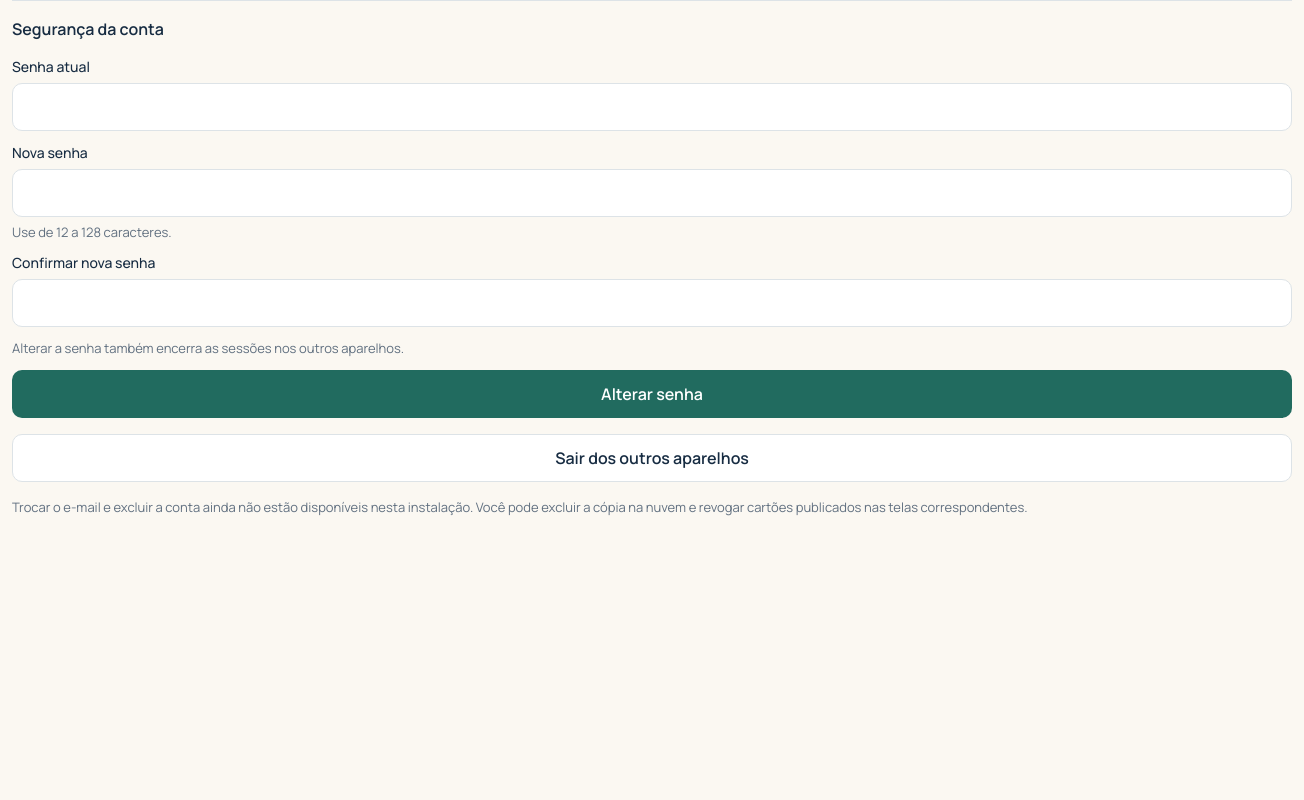
Test case: account security › clears password fields and reports provider failure without claiming success
Type "current-password" into the password field labelled "Senha atual" at (652, 107), box [12,83,1292,131]
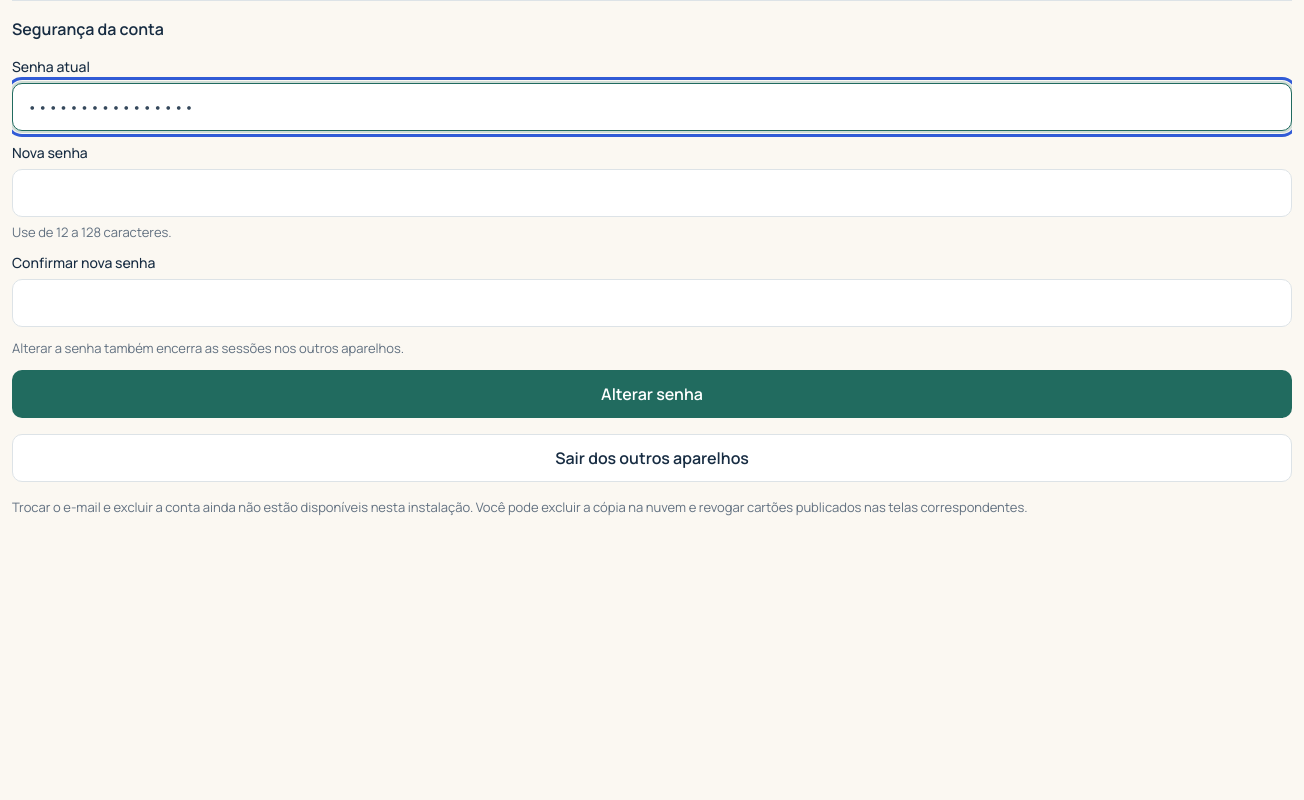
Type "new-password-secure" into the password field labelled "Nova senha" at (652, 193), box [12,169,1292,217]
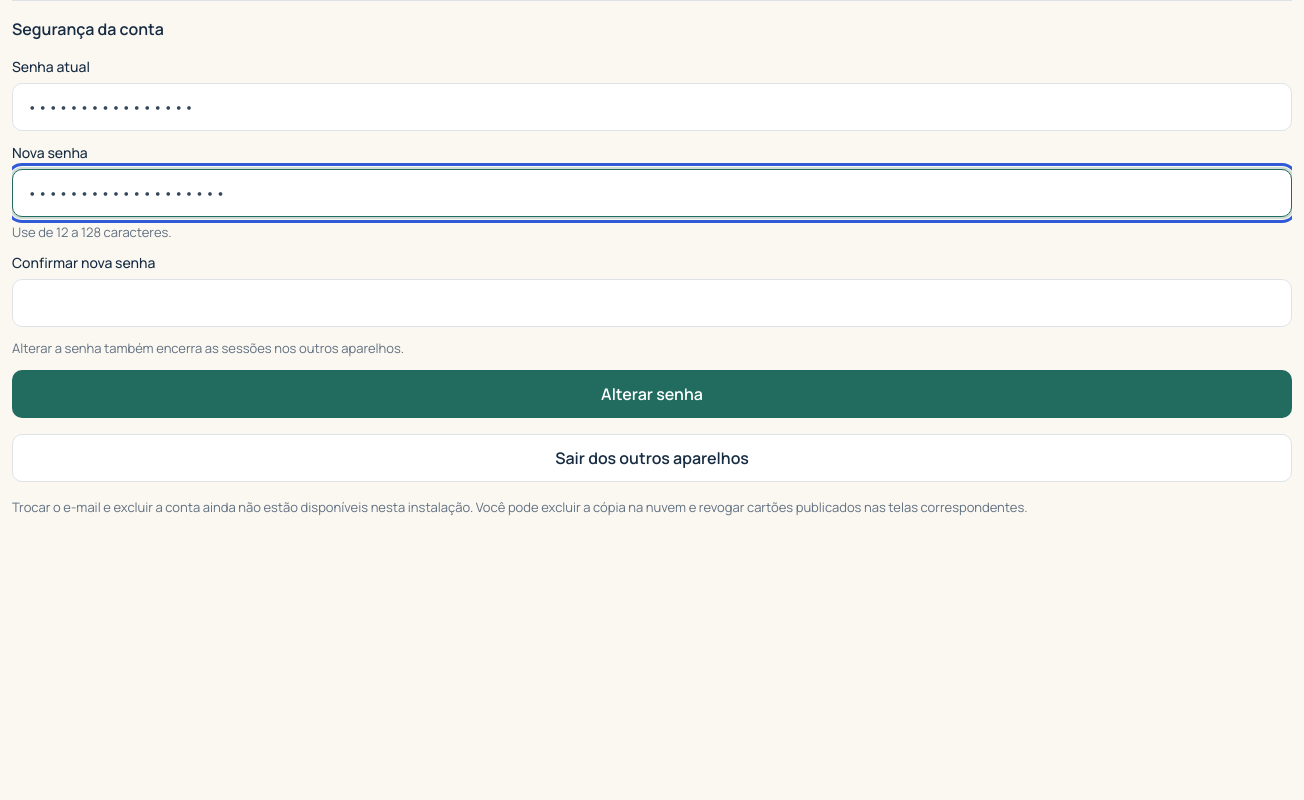
Type "new-password-secure" into the password field labelled "Confirmar nova senha" at (652, 303), box [12,279,1292,327]
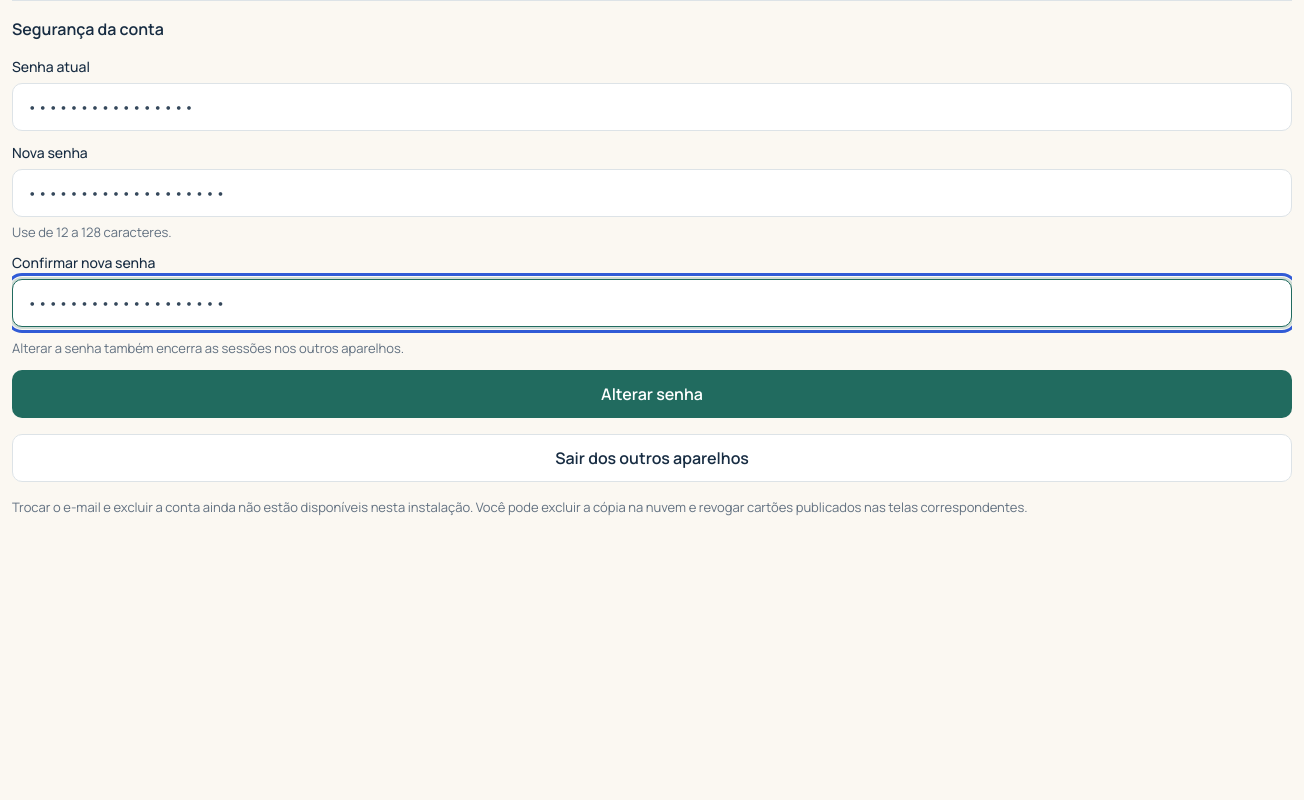
Click the button "Alterar senha" at (652, 394), box [12,370,1292,418]
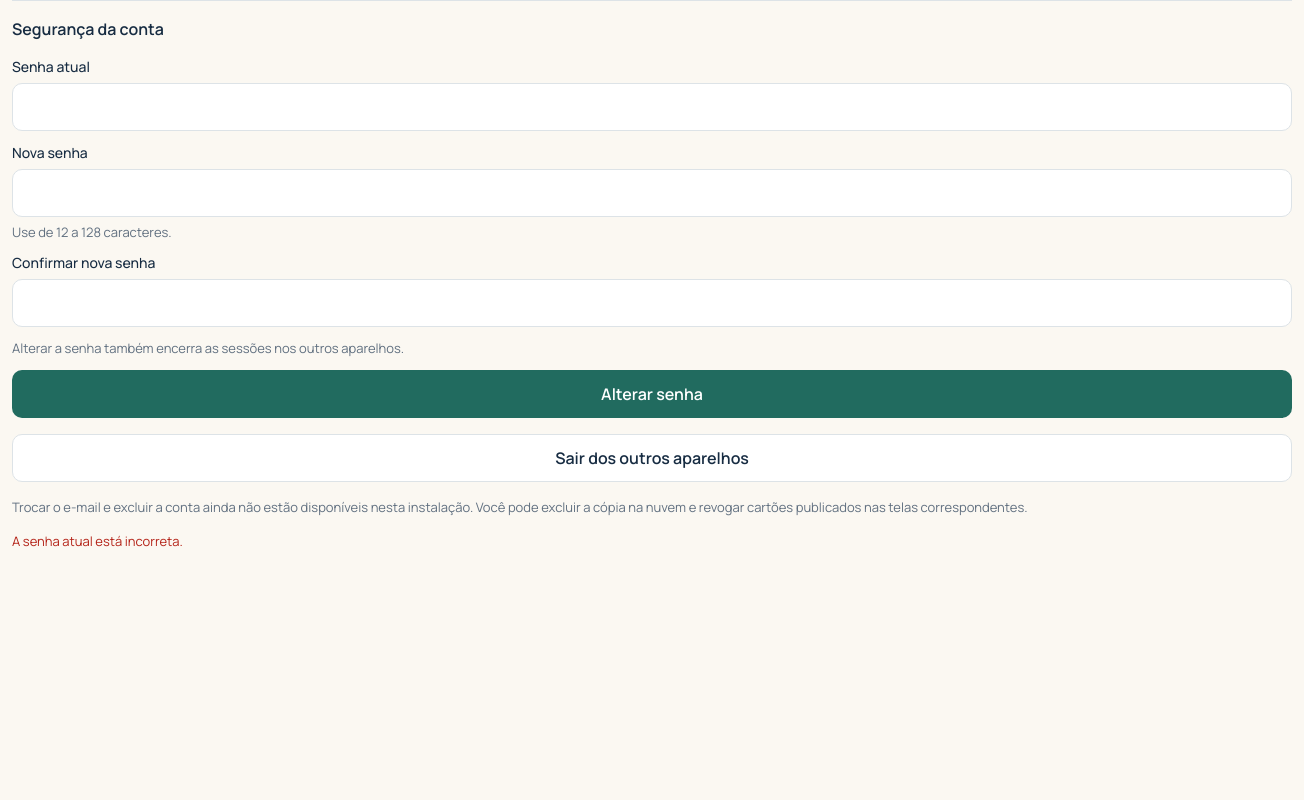
Expected: the message shows "senha atual está incorreta", [12,532,183,550]
Expected: the password field labelled "Senha atual" is empty, [12,83,1292,131]
